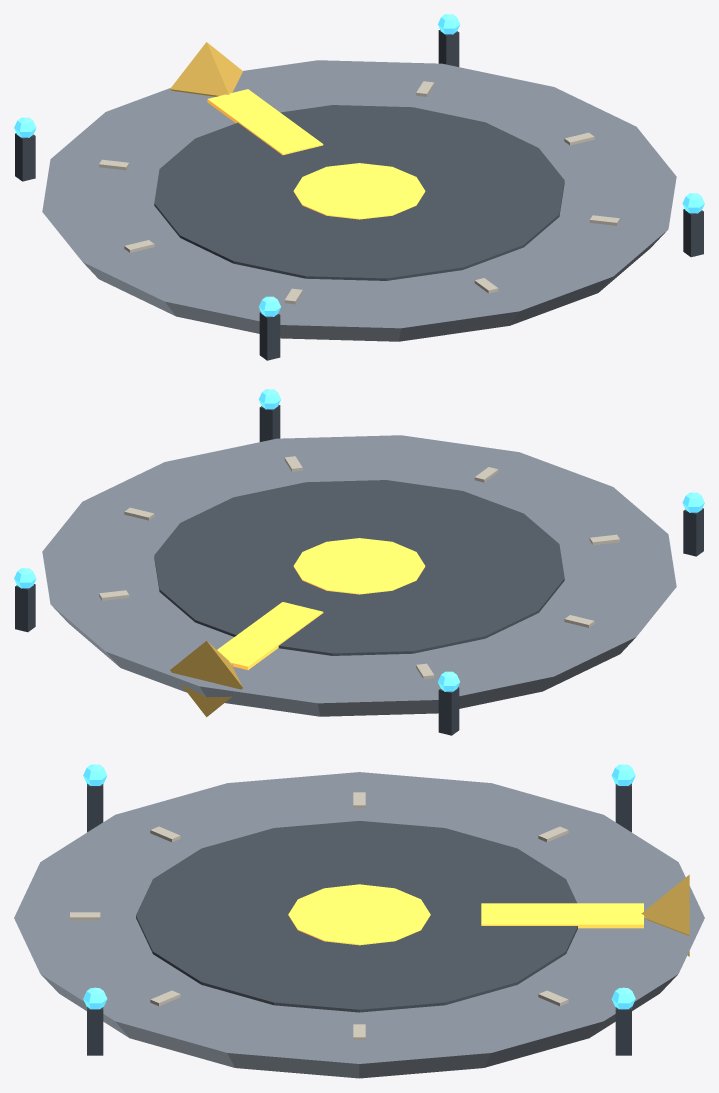
File: pad.glb
3 views of the same model, one above another, from view 1: azimuth 30°, elevation 25°; view 2: azimuth 150°, elevation 25°; view 3: azimuth 270°, elevation 25° (orthographic). The views are drawn at different scales.
Visible parts, largest first — view 1: M_b0, M_b1, M_b2, M_b3, M_b5, M_b6, M_b7, M_b4; view 2: M_b0, M_b1, M_b2, M_b3, M_b5, M_b6, M_b7, M_b4; view 3: M_b0, M_b1, M_b2, M_b5, M_b3, M_b7, M_b4, M_b6.
Boxes of the visible parts, left/top/right/bottom form: M_b0: left=42, top=60, right=676, bottom=341; M_b1: left=154, top=105, right=564, bottom=280; M_b2: left=293, top=163, right=425, bottom=219; M_b3: left=15, top=30, right=703, bottom=360; M_b5: left=207, top=89, right=323, bottom=155; M_b6: left=170, top=42, right=242, bottom=96; M_b7: left=99, top=81, right=619, bottom=304; M_b4: left=14, top=14, right=704, bottom=316; M_b0: left=42, top=435, right=676, bottom=716; M_b1: left=154, top=480, right=564, bottom=655; M_b2: left=293, top=538, right=425, bottom=594; M_b3: left=15, top=405, right=703, bottom=735; M_b5: left=217, top=602, right=323, bottom=669; M_b6: left=170, top=641, right=242, bottom=717; M_b7: left=99, top=456, right=619, bottom=679; M_b4: left=14, top=389, right=704, bottom=691; M_b0: left=14, top=772, right=704, bottom=1078; M_b1: left=136, top=821, right=577, bottom=1012; M_b2: left=288, top=884, right=430, bottom=945; M_b5: left=481, top=903, right=643, bottom=928; M_b3: left=87, top=783, right=631, bottom=1055; M_b7: left=70, top=792, right=647, bottom=1040; M_b4: left=83, top=764, right=635, bottom=1009; M_b6: left=641, top=874, right=689, bottom=956.
Size of the model in its own units: 6.8 by 0.9 by 6.8.
